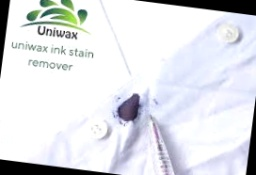ink: (116, 92, 142, 126)
